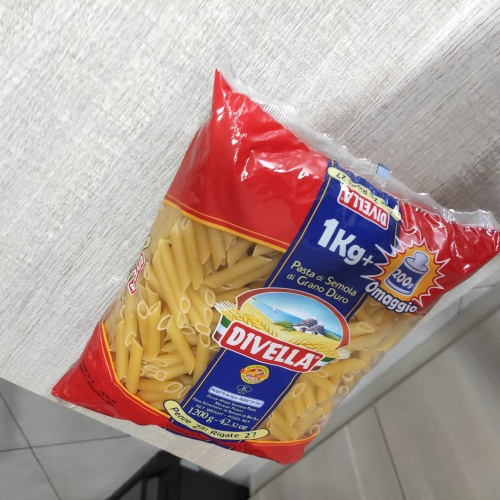pasta: (124, 192, 434, 443)
